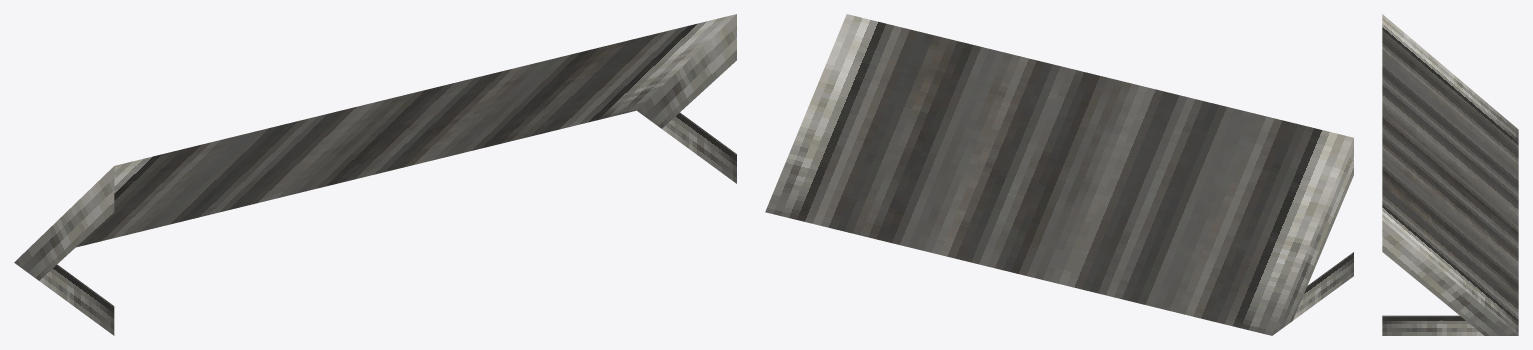
Rendered from detail-awning-small.001_lev2.glb.
3 views of the same model, side by side, from view 1: azimuth 30°, elevation 25°; view 2: azimuth 150°, elevation 25°; view 3: azimuth 270°, elevation 25° (orthographic). The views are drawn at different scales.
Visible parts, largest first — view 1: detail-awning-small.001_lev2; view 2: detail-awning-small.001_lev2; view 3: detail-awning-small.001_lev2.
Part boxes in pixels (bbox=[...]): detail-awning-small.001_lev2: bbox=[14, 14, 736, 335]; detail-awning-small.001_lev2: bbox=[765, 14, 1353, 335]; detail-awning-small.001_lev2: bbox=[1382, 14, 1518, 335].
Bounding box in the file's own units: 5.85 × 1.53 × 1.63.
1 material, 1 textured.
